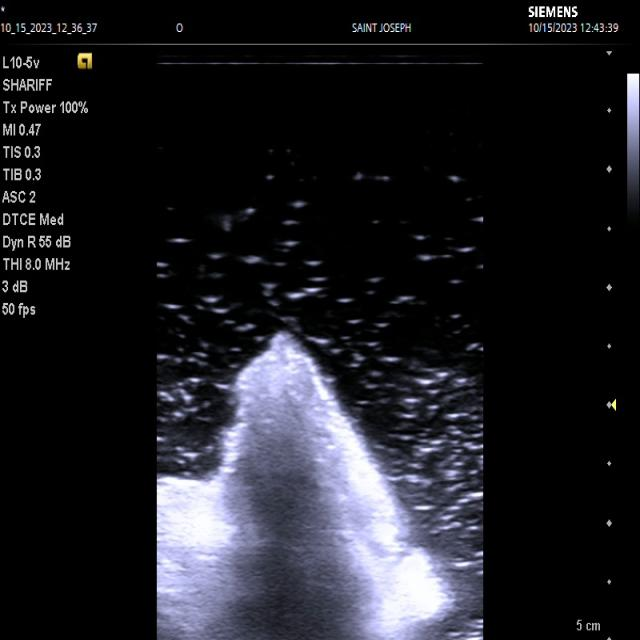tissue: (154, 332, 456, 640)
